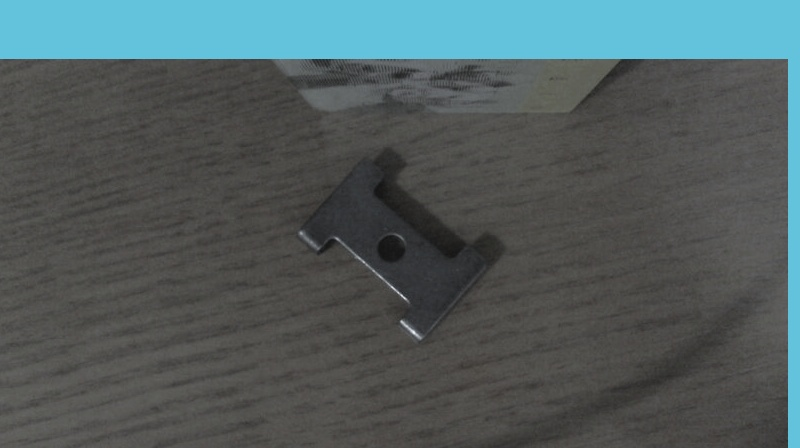O002: (292, 149, 494, 345)
